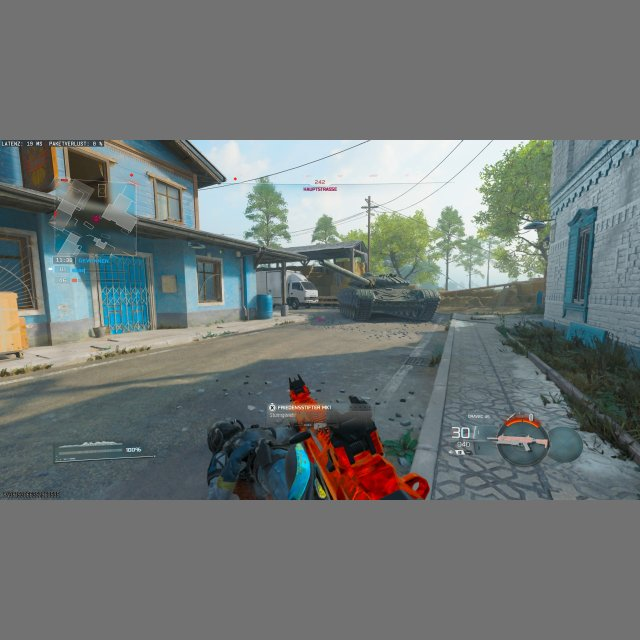head: (207, 419, 244, 454)
player: (204, 373, 349, 499)
